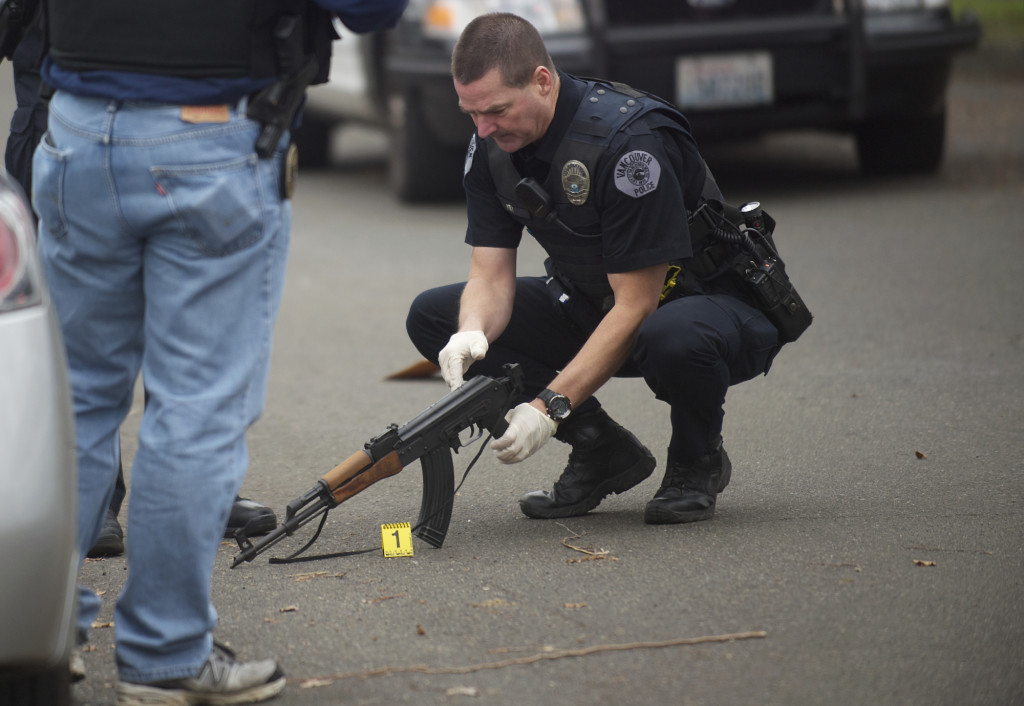rifle: (223, 359, 531, 577)
